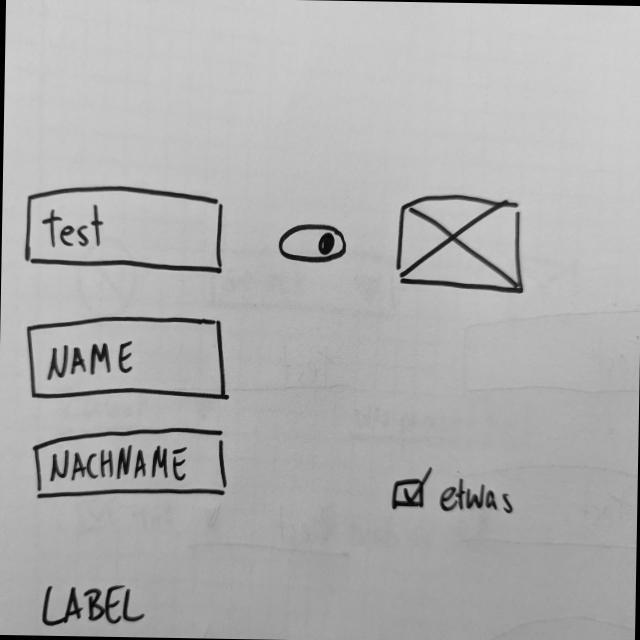checkbox: (389, 463, 521, 519)
image: (393, 193, 530, 294)
input: (25, 182, 228, 281), (25, 311, 230, 407), (32, 422, 230, 504)
label: (36, 582, 149, 633)
toggle: (277, 221, 350, 269)
